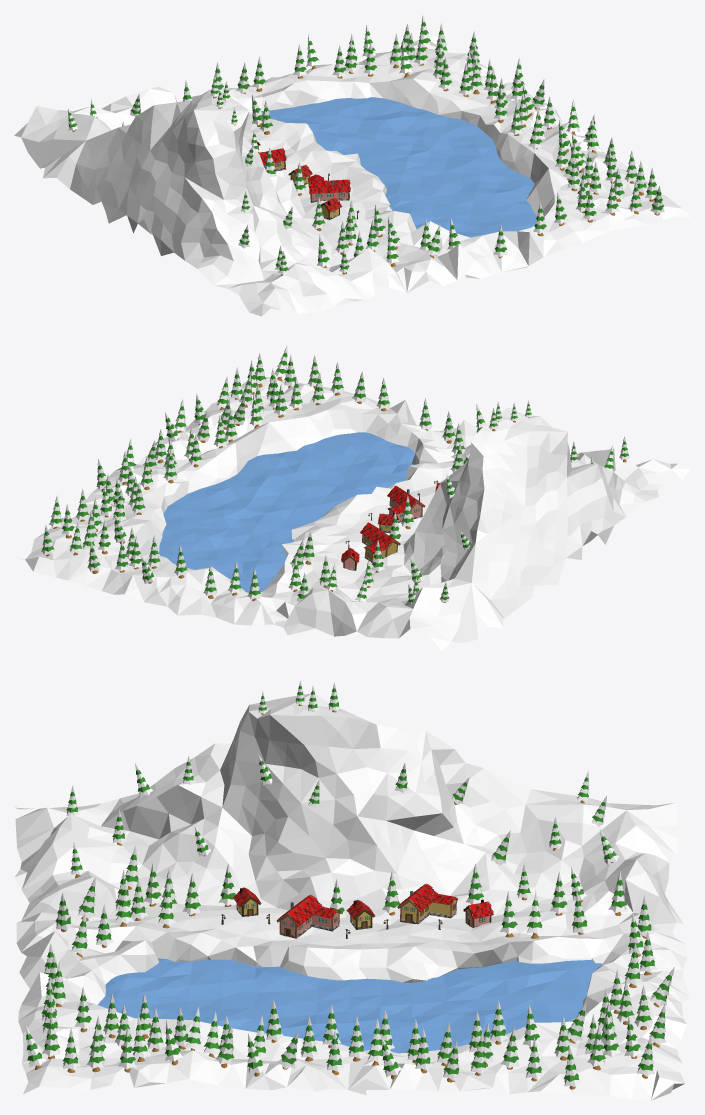
The model's file is Low Poly Winter Village.fbx.
The picture shows the model from 3 angles, top to bottom: view 1: azimuth 30°, elevation 25°; view 2: azimuth 150°, elevation 25°; view 3: azimuth 270°, elevation 25°; orthographic projection. The views are drawn at different scales.
Parts seen in each view (by area): view 1: Ground, Lake, House3; view 2: Ground, Lake, House4, House3; view 3: Ground, Lake, House3, House4.
Boxes of the visible parts, x1=… form: Ground: x1=14, y1=36, x2=690, y2=316; Lake: x1=261, y1=97, x2=536, y2=237; House3: x1=308, y1=174, x2=350, y2=202; Ground: x1=20, y1=377, x2=690, y2=651; Lake: x1=159, y1=432, x2=414, y2=592; House4: x1=360, y1=522, x2=400, y2=562; House3: x1=387, y1=485, x2=424, y2=522; Ground: x1=14, y1=693, x2=690, y2=1100; Lake: x1=97, y1=958, x2=602, y2=1053; House3: x1=276, y1=894, x2=340, y2=938; House4: x1=397, y1=883, x2=457, y2=924.
Size of the model in its own units: 9594 by 3368 by 9544.
